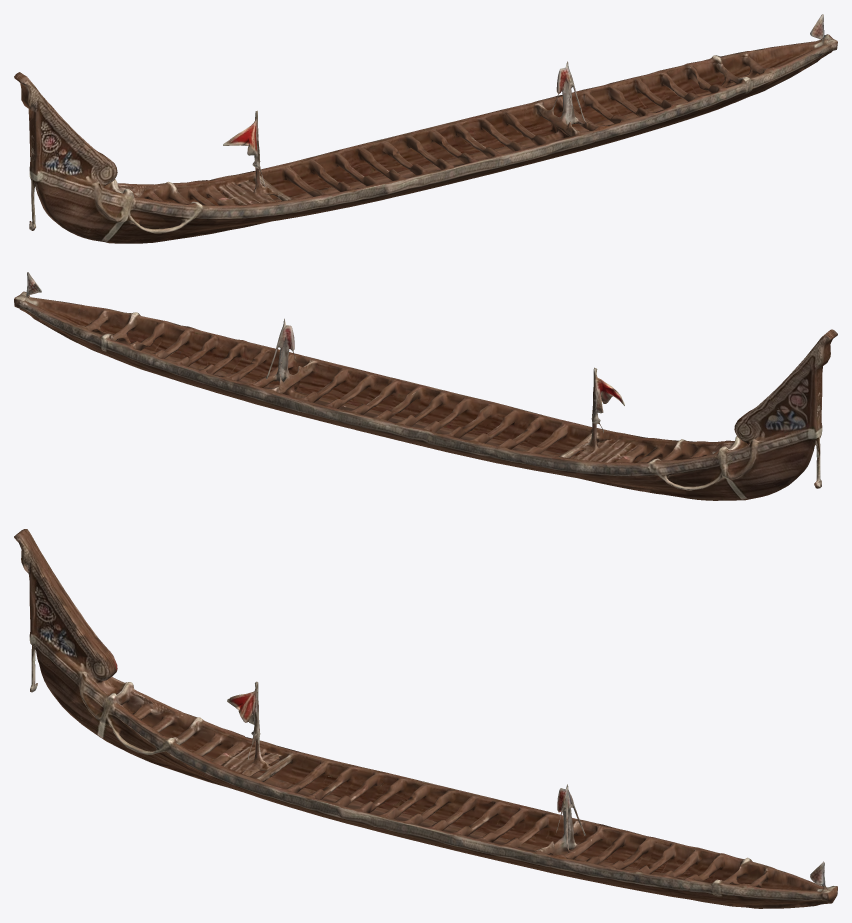
Rendered from boat.glb.
3 renders of one model, top to bottom at view 1: azimuth 30°, elevation 25°; view 2: azimuth 150°, elevation 25°; view 3: azimuth 330°, elevation 25°, orthographic.
Visible parts, largest first — view 1: Mesh_0; view 2: Mesh_0; view 3: Mesh_0.
Part boxes in pixels (x1=…): Mesh_0: x1=14, y1=14, x2=837, y2=243; Mesh_0: x1=14, y1=272, x2=837, y2=500; Mesh_0: x1=14, y1=529, x2=837, y2=908.
Size of the model in its own units: 1.9 by 0.466 by 0.1946.
Materials: 1 (1 with a texture image).
